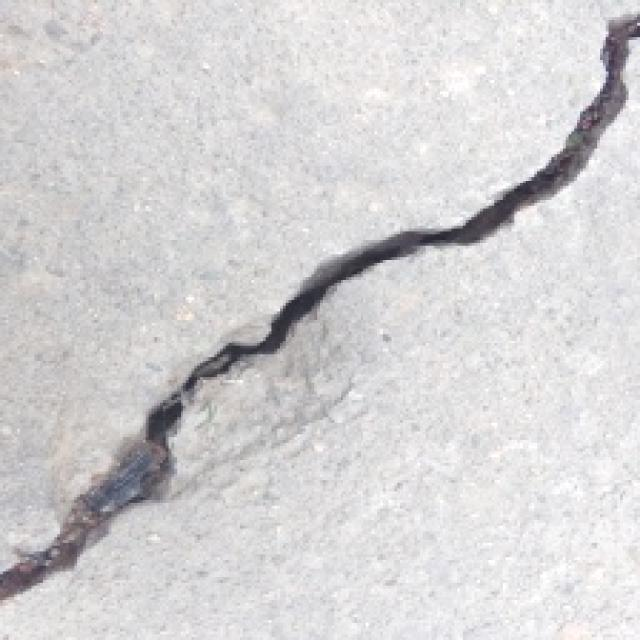SurfaceCrack: (8, 4, 640, 638)
